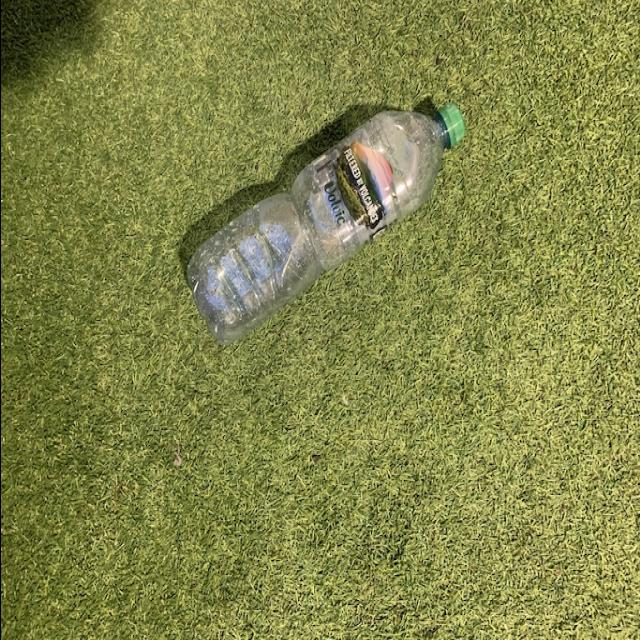PET: (180, 100, 466, 355)
